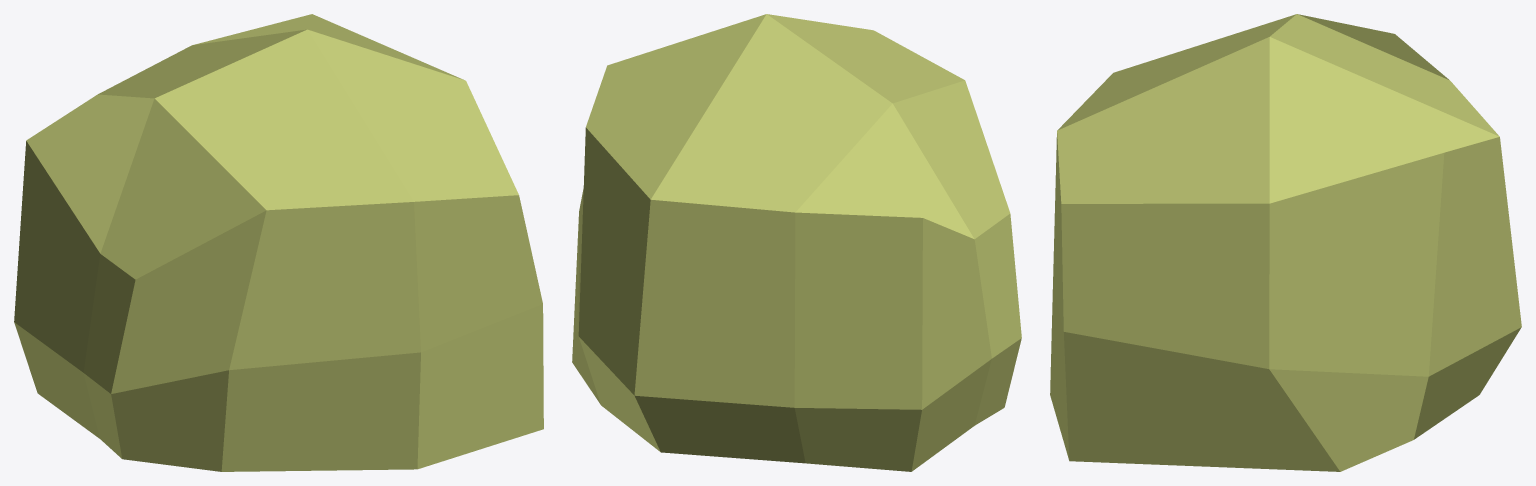
Rendered from rock5.fbx.
The picture shows the model from 3 angles, left to right: view 1: azimuth 30°, elevation 25°; view 2: azimuth 150°, elevation 25°; view 3: azimuth 270°, elevation 25°; orthographic projection.
Visible parts, largest first — view 1: rock-5; view 2: rock-5; view 3: rock-5.
Part boxes in pixels (<box>): rock-5: <box>14,14,543,471</box>; rock-5: <box>572,14,1021,471</box>; rock-5: <box>1050,14,1521,471</box>.
Size of the model in its own units: 292 by 243 by 290.
